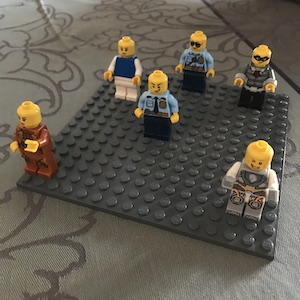Lego: (220, 139, 280, 220), (11, 100, 58, 180), (133, 69, 180, 140), (233, 44, 277, 109), (104, 35, 144, 103), (174, 30, 215, 92)
